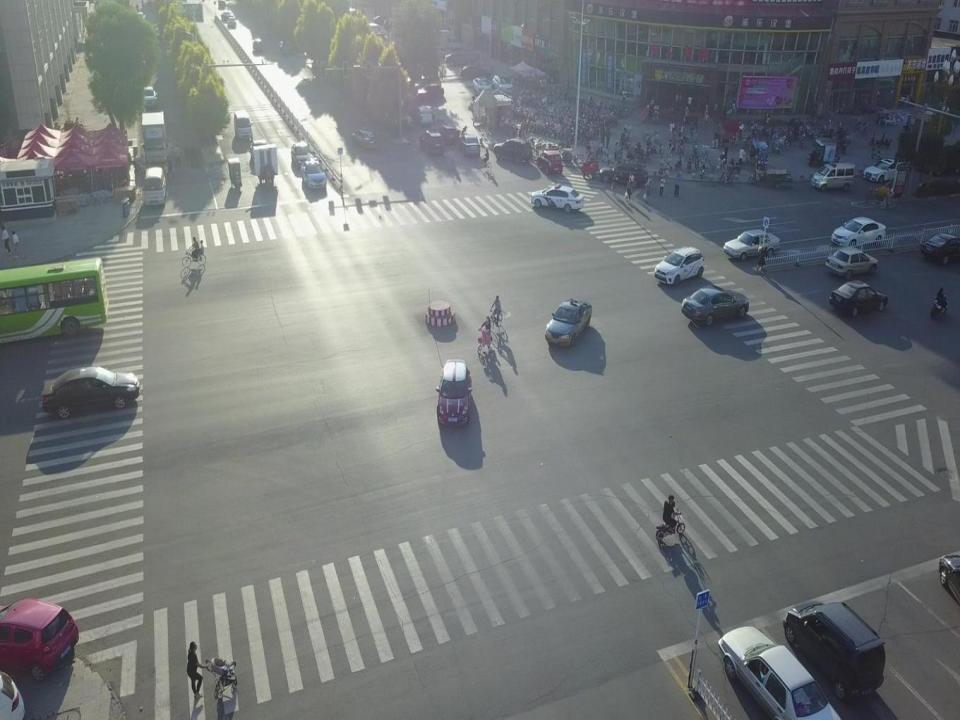bus: (0, 253, 109, 346)
car: (718, 627, 843, 720), (0, 598, 79, 678), (41, 367, 140, 415), (680, 285, 749, 322), (438, 357, 472, 426), (546, 298, 593, 346), (832, 278, 890, 314), (654, 248, 704, 284), (724, 229, 780, 260), (827, 246, 878, 278), (832, 217, 888, 246), (530, 183, 585, 210), (920, 232, 960, 264), (494, 138, 532, 165), (863, 158, 905, 180), (300, 157, 326, 189), (418, 128, 444, 154), (351, 128, 380, 151), (290, 141, 314, 167), (537, 149, 563, 172), (458, 133, 482, 157), (438, 123, 458, 147), (417, 83, 444, 100), (460, 62, 488, 77), (493, 74, 513, 94), (139, 86, 158, 107), (446, 51, 472, 65), (471, 74, 490, 93), (417, 105, 434, 126), (277, 38, 292, 56), (220, 9, 234, 21), (226, 16, 236, 28)
truck: (140, 111, 166, 166), (431, 28, 462, 50)
van: (785, 600, 885, 696), (812, 164, 854, 188), (142, 166, 167, 206), (234, 110, 254, 140)
